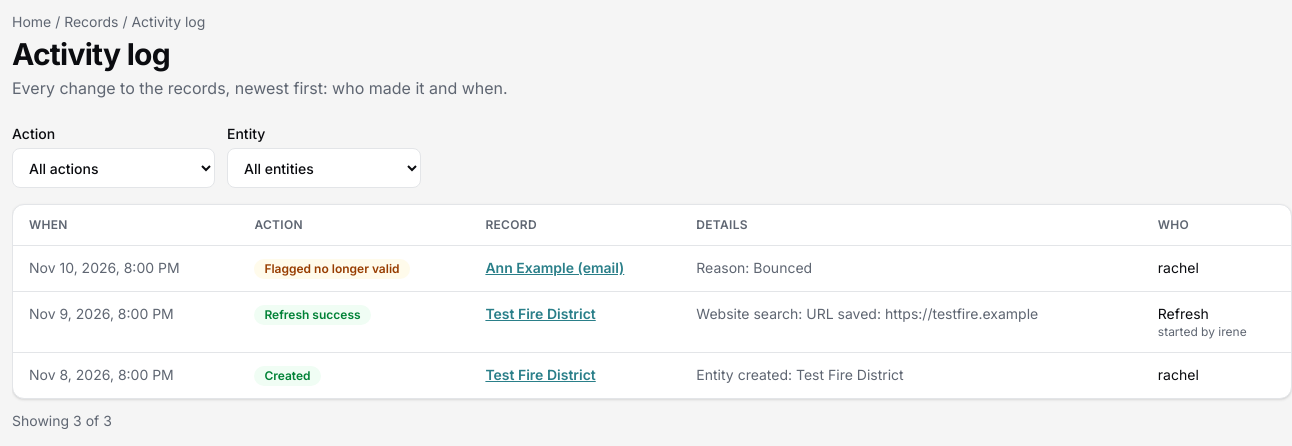
Scenario: shows a different message when filters match nothing
Select "Refresh attempt" in the dropdown labelled "Action". click: coordinates (114, 168)
box: [12, 148, 215, 188]
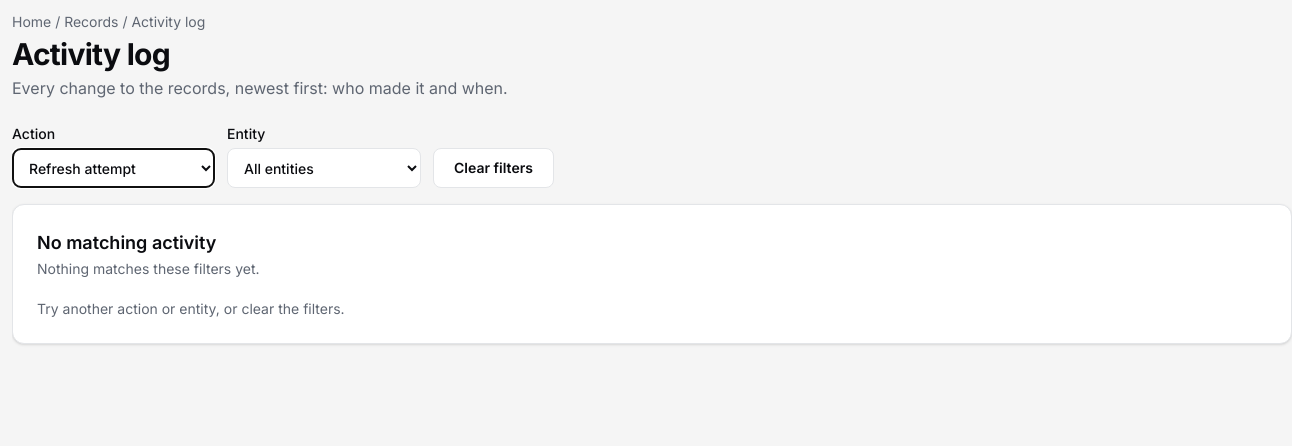
Now the heading "No matching activity" is shown, box [37, 232, 216, 253]
